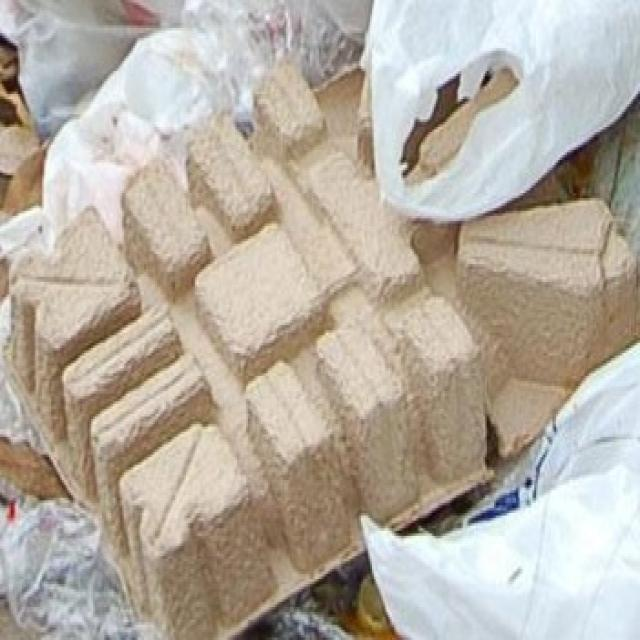cardboard: (18, 0, 640, 604)
